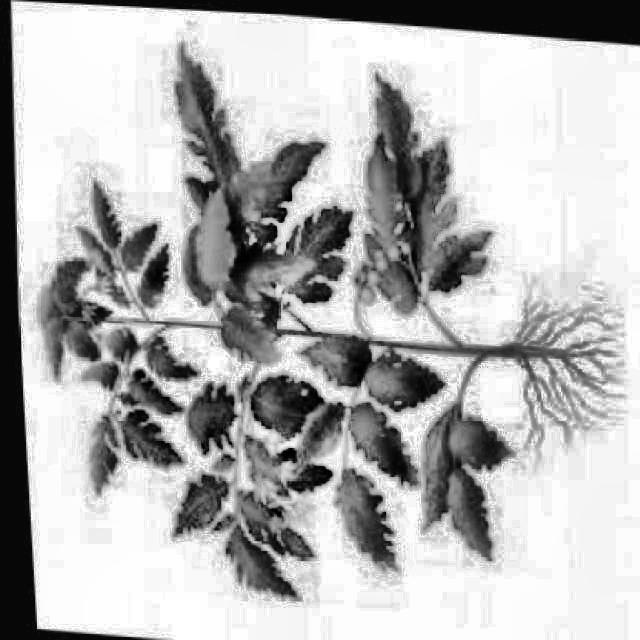plants: (0, 19, 612, 638)
